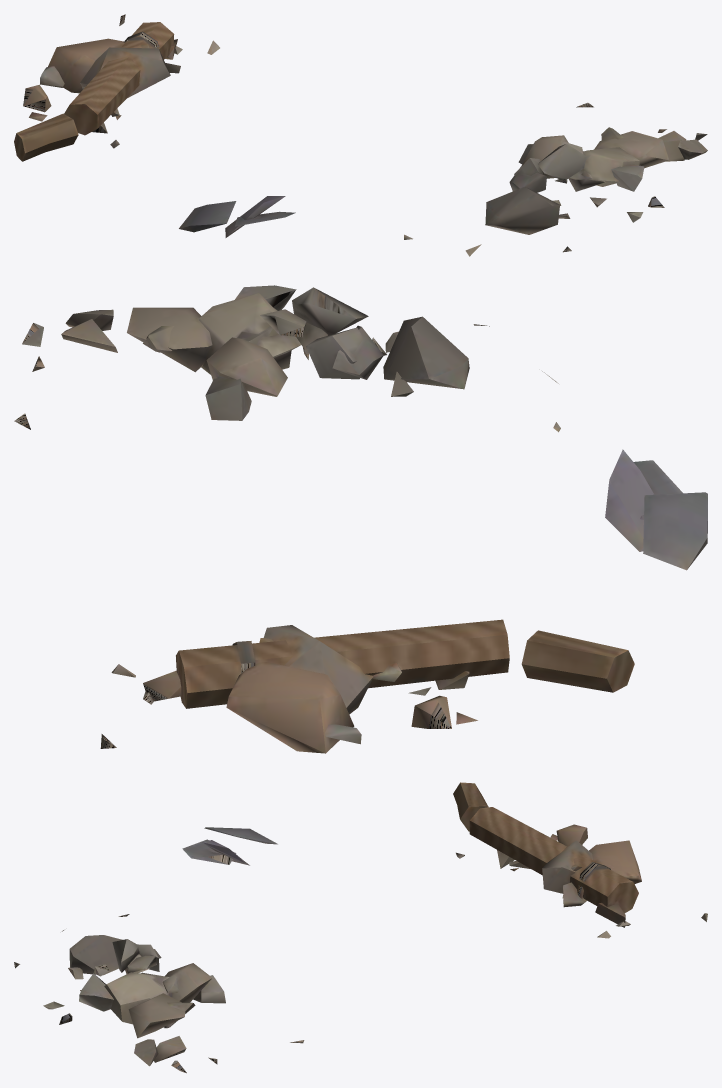
Rendered from rough-cave-2.low.glb.
The picture shows the model from 3 angles, top to bottom: view 1: azimuth 30°, elevation 25°; view 2: azimuth 150°, elevation 25°; view 3: azimuth 270°, elevation 25°; orthographic projection. The views are drawn at different scales.
Visible parts, largest first — view 1: rough-cave-2; view 2: rough-cave-2; view 3: rough-cave-2.
Boxes of the visible parts, bbox=[...] form: rough-cave-2: bbox=[14, 14, 707, 256]; rough-cave-2: bbox=[14, 285, 707, 753]; rough-cave-2: bbox=[14, 782, 707, 1073].
Size of the model in its own units: 1.78 by 0.2202 by 1.99.
Materials: 1 (1 with a texture image).
